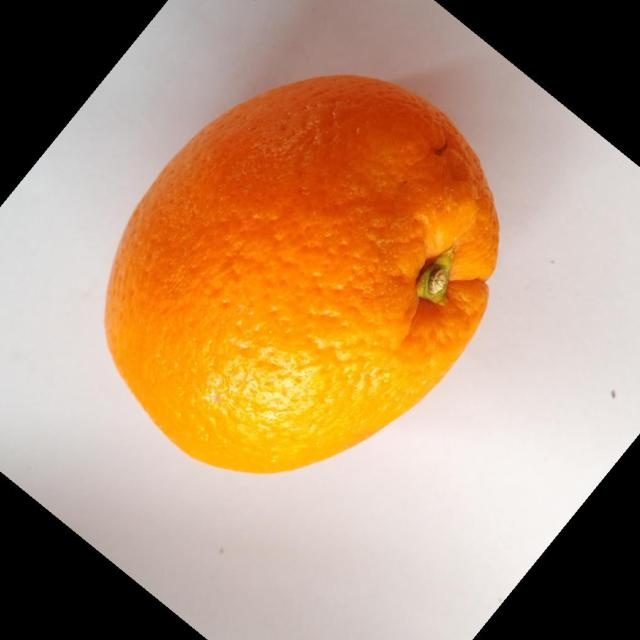agrume: (103, 72, 500, 475)
